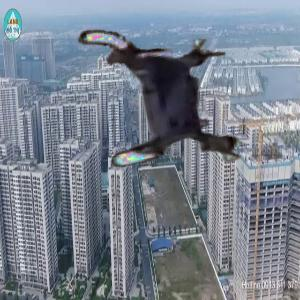drone: (74, 9, 251, 186)
